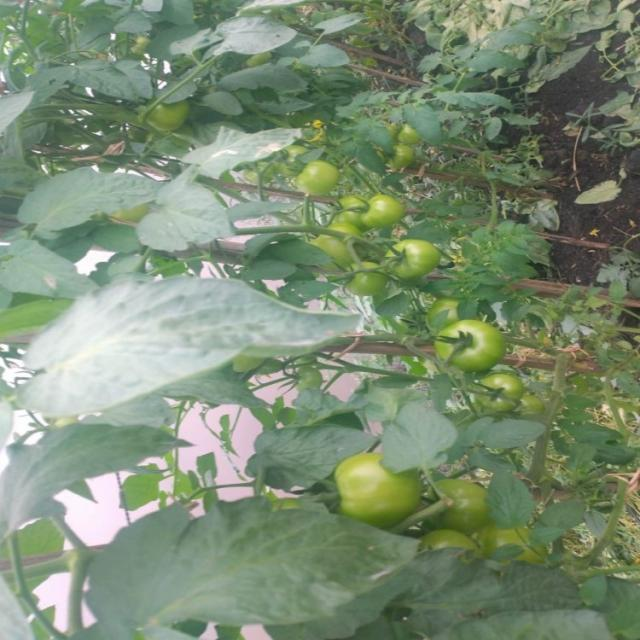tomato: (336, 449, 417, 528), (423, 314, 509, 369), (429, 473, 492, 528), (422, 522, 491, 565), (310, 213, 366, 264), (498, 510, 550, 564), (386, 232, 438, 281), (472, 367, 518, 420), (361, 191, 412, 230), (288, 159, 339, 197), (141, 89, 188, 126), (380, 147, 431, 181), (342, 256, 385, 292), (390, 118, 432, 149)
